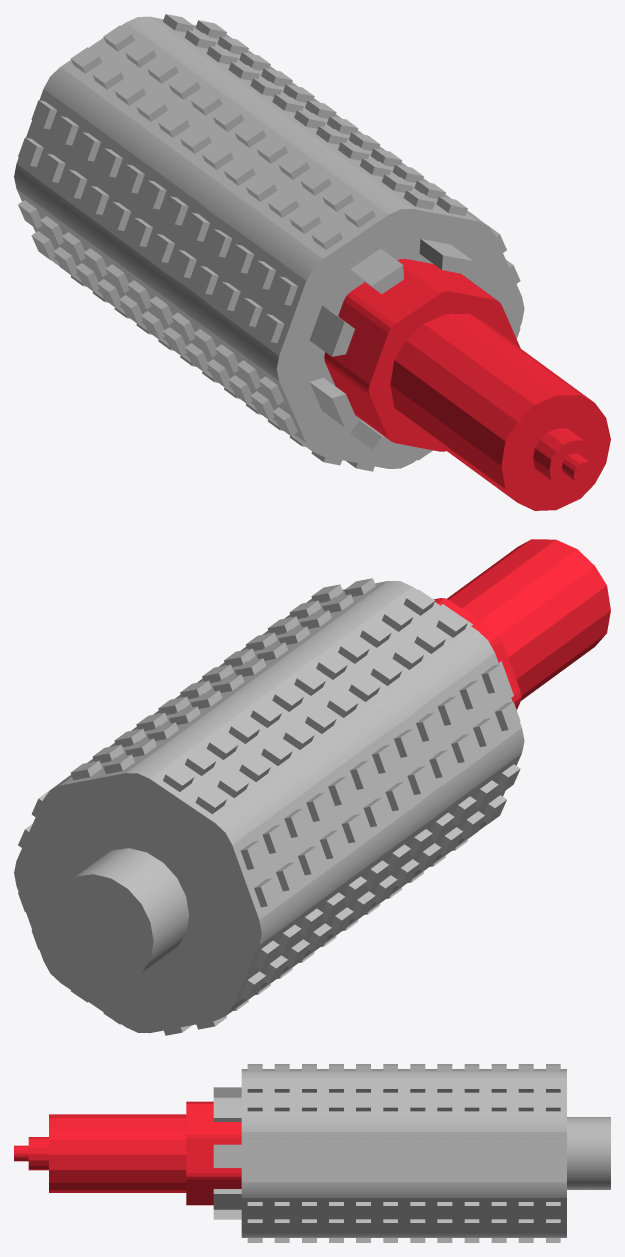
The model's file is upgrade.fbx.
3 renders of one model, top to bottom at view 1: azimuth 30°, elevation 25°; view 2: azimuth 150°, elevation 25°; view 3: azimuth 270°, elevation 25°, orthographic. The views are drawn at different scales.
Parts seen in each view (by area): view 1: FlashLight_Battery, FlashLight_Battery.001; view 2: FlashLight_Battery, FlashLight_Battery.001; view 3: FlashLight_Battery, FlashLight_Battery.001.
Part boxes in pixels (x1,y1,x2,y2): FlashLight_Battery: (14,14,524,471); FlashLight_Battery.001: (324,258,610,510); FlashLight_Battery: (14,578,524,1035); FlashLight_Battery.001: (434,539,610,709); FlashLight_Battery: (213,1064,610,1242); FlashLight_Battery.001: (14,1101,241,1205).
Size of the model in its own units: 5.15 by 5.15 by 17.21.
